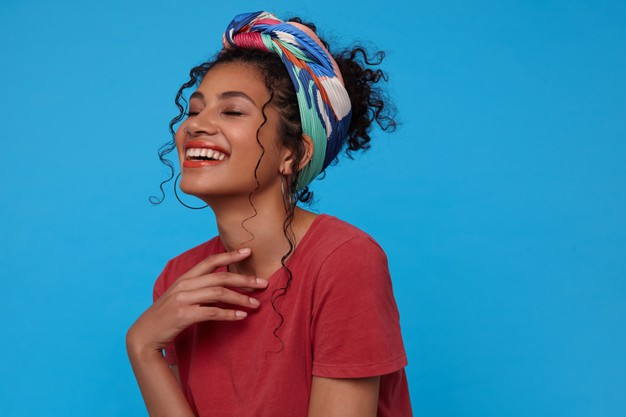Without Helmet: (164, 10, 378, 223)
